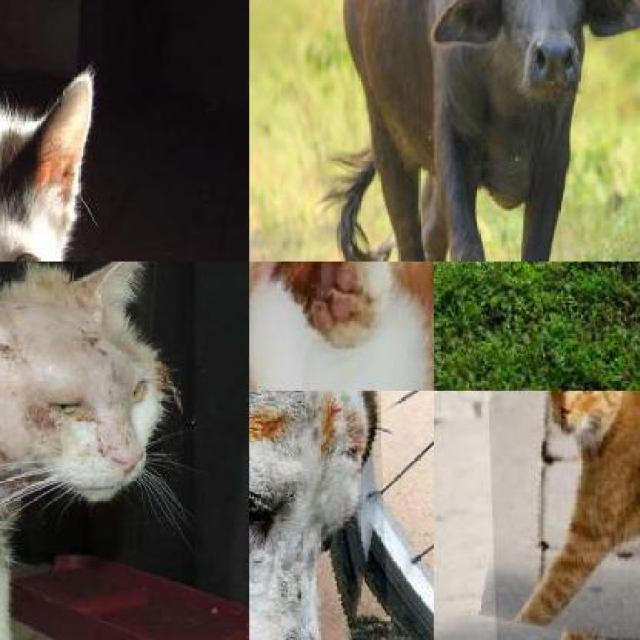buffalo: (320, 0, 622, 262)
cat: (0, 284, 186, 640), (484, 391, 640, 640), (0, 0, 108, 262), (249, 262, 434, 391)
dog: (250, 391, 396, 640)
